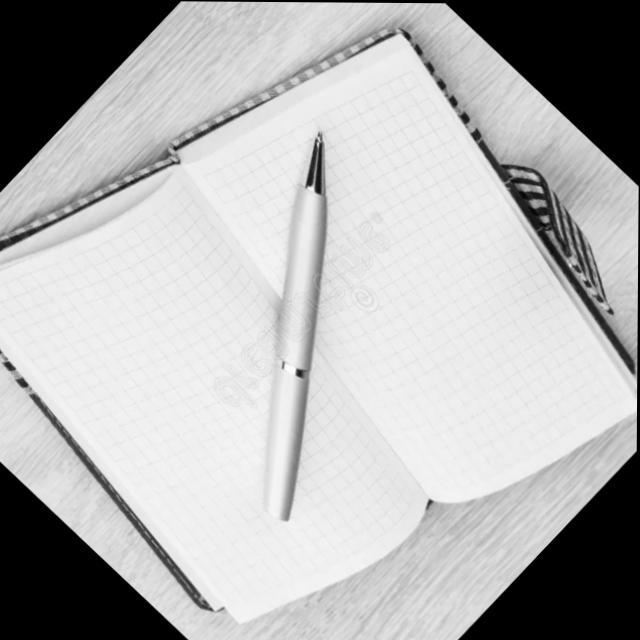pencil: (251, 114, 344, 534)
